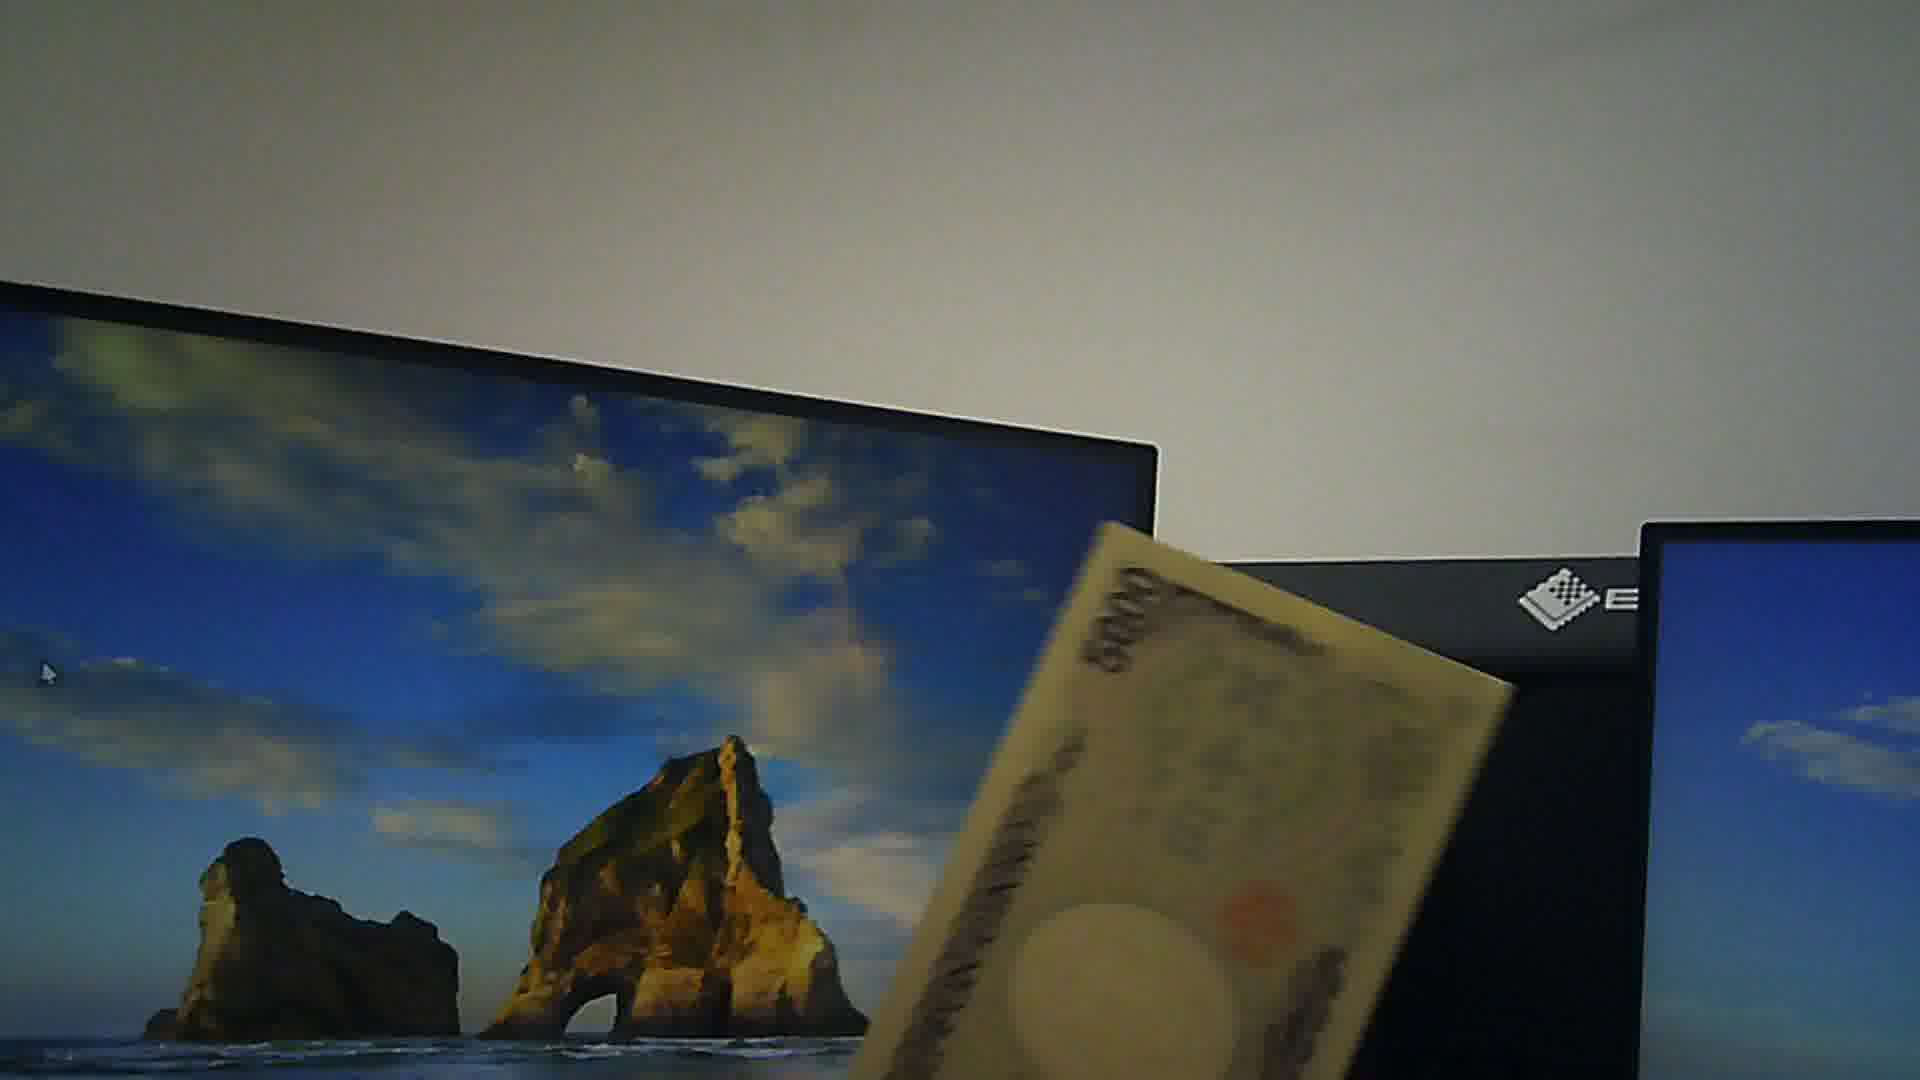5,000 Yen: (870, 504, 1457, 1079)
